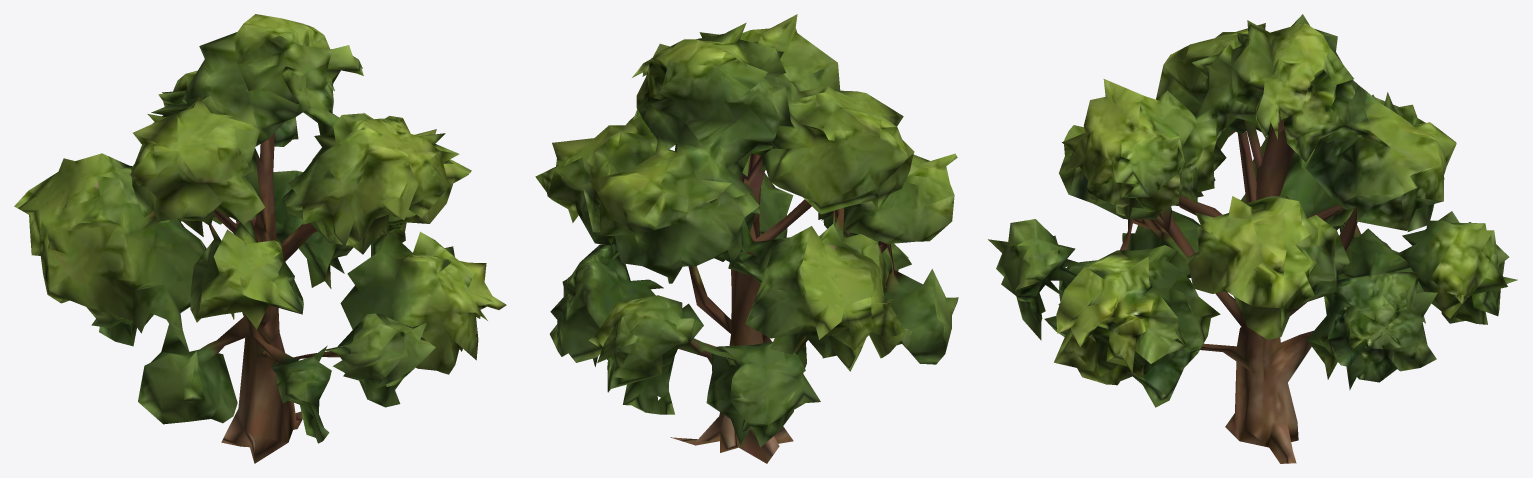
Rendered from oak-bake-source.glb.
The picture shows the model from 3 angles, left to right: view 1: azimuth 30°, elevation 25°; view 2: azimuth 150°, elevation 25°; view 3: azimuth 270°, elevation 25°; orthographic projection. The views are drawn at different scales.
Visible parts, largest first — view 1: tripo_node_d25cdbcb-1df1-46a8-9afc-cd8851824bd0; view 2: tripo_node_d25cdbcb-1df1-46a8-9afc-cd8851824bd0; view 3: tripo_node_d25cdbcb-1df1-46a8-9afc-cd8851824bd0.
Boxes of the visible parts, box(x1,y1,x2,y2) form: tripo_node_d25cdbcb-1df1-46a8-9afc-cd8851824bd0: box(14, 14, 506, 463); tripo_node_d25cdbcb-1df1-46a8-9afc-cd8851824bd0: box(535, 14, 958, 463); tripo_node_d25cdbcb-1df1-46a8-9afc-cd8851824bd0: box(988, 14, 1517, 463).
Size of the model in its own units: 0.854 by 0.8774 by 0.9895.
Materials: 1 (1 with a texture image).
